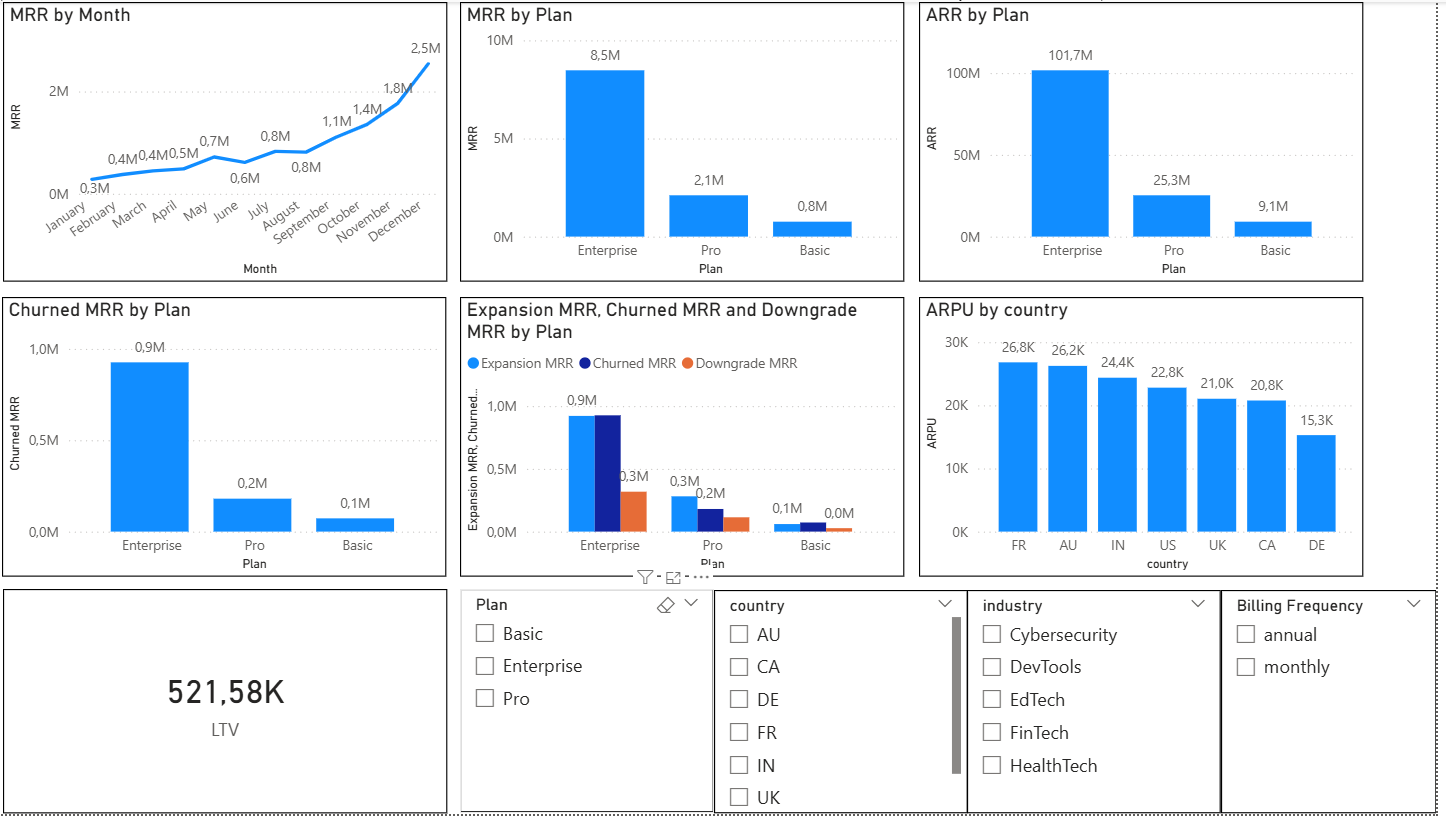

Layout of this report page (visuals, bound fields, positions):
{"tool":"powerbi","page":{"name":"Revenue & MRR","canvas":[1280,720],"ordinal":2},"visuals":[{"type":"lineChart","fields":{"Category":["ravenstack_subscriptions.start_date.Variation.Date Hierarchy.Year","ravenstack_subscriptions.start_date.Variation.Date Hierarchy.Quarter","ravenstack_subscriptions.start_date.Variation.Date Hierarchy.Month","ravenstack_subscriptions.start_date.Variation.Date Hierarchy.Day"],"Y":["ravenstack_subscriptions.MRR"]},"box":[9.7,0,393.9,248],"z":0},{"type":"columnChart","fields":{"Category":["ravenstack_subscriptions.plan_tier"],"Y":["ravenstack_subscriptions.MRR"]},"box":[415.3,0,393.9,248],"z":1000},{"type":"columnChart","fields":{"Category":["ravenstack_subscriptions.plan_tier"],"Y":["ravenstack_subscriptions.ARR"]},"box":[821.9,0,393.9,248],"z":2000},{"type":"columnChart","fields":{"Category":["ravenstack_subscriptions.plan_tier"],"Y":["ravenstack_subscriptions.Churned MRR"]},"box":[8.8,261.6,393.9,248],"z":3000},{"type":"clusteredColumnChart","fields":{"Category":["ravenstack_subscriptions.plan_tier"],"Y":["ravenstack_subscriptions.Expansion MRR","ravenstack_subscriptions.Churned MRR","ravenstack_subscriptions.Downgrade MRR"]},"box":[415.3,261.6,393.9,248],"z":4000},{"type":"columnChart","fields":{"Y":["ravenstack_subscriptions.ARPU"],"Category":["ravenstack_accounts.country"]},"box":[821.9,261.6,393.9,248],"z":5000},{"type":"card","fields":{"Values":["ravenstack_subscriptions.LTV"]},"box":[9.7,520.4,393.9,199.4],"z":6000},{"type":"slicer","fields":{"Values":["ravenstack_subscriptions.plan_tier"]},"box":[415.3,520.4,224.7,198.4],"z":7000},{"type":"slicer","fields":{"Values":["ravenstack_accounts.country"]},"box":[640,521.3,224.7,198.4],"z":8000},{"type":"slicer","fields":{"Values":["ravenstack_accounts.industry"]},"box":[864.7,521.3,224.7,198.4],"z":9000},{"type":"slicer","fields":{"Values":["ravenstack_subscriptions.billing_frequency"]},"box":[1089.4,521.3,190.6,198.4],"z":10000}]}

Visuals, with their boxes in screenshot pixels (x1, y1, x2, y2), scaled from the page's 1280x720 canvas onto the 1446x820 screenshot:
lineChart - ravenstack_subscriptions.start_date.Variation.Date Hierarchy.Year x ravenstack_subscriptions.start_date.Variation.Date Hierarchy.Quarter: 11:0:456:282
columnChart - ravenstack_subscriptions.plan_tier x ravenstack_subscriptions.MRR: 469:0:914:282
columnChart - ravenstack_subscriptions.plan_tier x ravenstack_subscriptions.ARR: 928:0:1373:282
columnChart - ravenstack_subscriptions.plan_tier x ravenstack_subscriptions.Churned MRR: 10:298:455:580
clusteredColumnChart - ravenstack_subscriptions.plan_tier x ravenstack_subscriptions.Expansion MRR: 469:298:914:580
columnChart - ravenstack_subscriptions.ARPU x ravenstack_accounts.country: 928:298:1373:580
card - ravenstack_subscriptions.LTV: 11:593:456:819
slicer - ravenstack_subscriptions.plan_tier: 469:593:723:819
slicer - ravenstack_accounts.country: 723:594:977:819
slicer - ravenstack_accounts.industry: 977:594:1231:819
slicer - ravenstack_subscriptions.billing_frequency: 1231:594:1445:819
